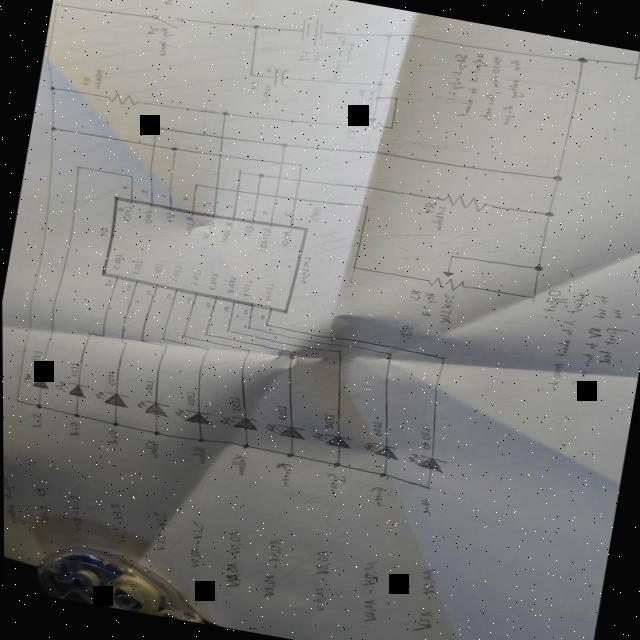capacitor: (260, 64, 290, 89)
crossover: (146, 141, 157, 150), (213, 151, 222, 158), (215, 133, 224, 140), (290, 195, 297, 202), (211, 184, 219, 190), (270, 193, 277, 199), (252, 190, 259, 196), (276, 160, 283, 166), (274, 174, 280, 180), (293, 177, 300, 182), (232, 188, 239, 193)
diode: (404, 451, 446, 474), (260, 420, 307, 440), (170, 405, 213, 426), (308, 430, 352, 450), (359, 439, 400, 460), (216, 411, 258, 431), (51, 378, 89, 398), (132, 398, 168, 418), (94, 388, 129, 408), (25, 371, 51, 389)
ground: (629, 50, 640, 83)
junction: (530, 262, 543, 272), (574, 54, 587, 64), (540, 208, 553, 218), (549, 172, 562, 182), (526, 292, 536, 303), (328, 459, 339, 468), (375, 469, 386, 478), (149, 428, 160, 436), (282, 450, 293, 458), (238, 441, 249, 449), (249, 22, 260, 30), (68, 410, 79, 418), (276, 140, 287, 148), (254, 170, 263, 178), (382, 30, 391, 38), (46, 84, 56, 91), (372, 93, 380, 101), (445, 252, 454, 259), (219, 108, 228, 115), (108, 419, 117, 426), (194, 436, 203, 443), (348, 263, 357, 270), (168, 144, 177, 151), (46, 124, 55, 131), (359, 202, 368, 209), (373, 80, 383, 86), (234, 168, 242, 175), (32, 402, 41, 408), (421, 484, 430, 490), (150, 124, 159, 130), (52, 2, 61, 8), (242, 324, 251, 330), (390, 95, 399, 101), (242, 347, 250, 353), (199, 330, 207, 336), (156, 334, 164, 340), (295, 161, 303, 167), (191, 181, 199, 187), (160, 343, 168, 349), (135, 337, 143, 343), (97, 332, 104, 338), (246, 72, 253, 78), (201, 345, 208, 351), (385, 350, 392, 356), (284, 348, 291, 354), (176, 332, 184, 337), (437, 354, 445, 359), (334, 348, 342, 353), (11, 397, 18, 402), (126, 173, 133, 178), (84, 330, 91, 335), (386, 125, 393, 130), (222, 328, 230, 332), (73, 164, 80, 168), (261, 322, 267, 326), (117, 338, 121, 342), (122, 340, 126, 344)
resistor: (437, 188, 491, 214), (422, 264, 466, 292), (104, 89, 140, 107), (353, 114, 384, 132)
source: (295, 15, 326, 48)
switch: (147, 10, 183, 30)
text: (543, 288, 589, 393), (567, 291, 608, 394), (405, 563, 440, 635), (350, 556, 387, 624), (495, 57, 529, 128), (454, 50, 487, 119), (593, 306, 630, 367), (216, 526, 251, 590), (302, 546, 335, 612), (476, 53, 506, 121), (255, 533, 285, 598), (98, 500, 132, 546), (3, 472, 31, 527), (181, 518, 208, 570), (142, 509, 171, 553), (59, 491, 88, 533), (442, 50, 468, 95), (535, 286, 567, 320), (29, 486, 54, 522), (328, 34, 345, 78), (434, 292, 454, 324), (269, 459, 292, 486), (154, 26, 173, 57), (417, 291, 437, 317), (295, 254, 312, 284), (226, 452, 247, 476), (427, 204, 445, 232), (413, 424, 431, 450), (139, 437, 159, 459), (185, 444, 206, 464), (323, 472, 342, 494), (254, 226, 270, 252), (366, 483, 384, 506), (88, 66, 105, 90), (360, 88, 374, 115), (101, 426, 119, 446), (180, 215, 195, 238), (217, 220, 232, 243), (63, 418, 81, 437), (415, 496, 432, 516), (198, 218, 213, 240), (342, 41, 357, 62), (257, 82, 271, 104), (350, 88, 364, 110), (317, 411, 334, 429), (26, 411, 43, 429), (276, 228, 291, 248), (186, 266, 201, 286), (222, 274, 236, 295), (396, 322, 413, 339), (65, 360, 80, 379), (237, 278, 251, 298), (204, 270, 218, 290), (168, 263, 182, 283), (367, 419, 383, 436), (271, 404, 287, 421), (306, 204, 321, 222), (224, 394, 240, 410), (102, 368, 116, 386), (129, 258, 143, 276), (27, 349, 40, 368), (181, 389, 195, 406), (117, 204, 131, 221), (260, 282, 273, 300), (109, 252, 122, 270), (149, 262, 162, 279), (406, 287, 420, 302), (420, 201, 436, 214), (140, 378, 152, 395), (140, 207, 152, 224), (342, 127, 356, 141), (239, 224, 253, 238), (161, 210, 174, 223), (95, 225, 108, 238), (246, 77, 258, 91), (309, 49, 321, 63), (144, 23, 158, 35), (297, 49, 309, 62), (78, 75, 92, 86), (101, 276, 112, 287), (159, 0, 174, 7), (239, 306, 248, 316), (257, 208, 268, 216), (182, 295, 191, 304), (221, 202, 232, 209), (255, 312, 264, 320), (122, 284, 131, 292), (219, 304, 228, 312), (201, 198, 210, 206), (143, 288, 151, 296), (163, 291, 171, 299), (202, 300, 210, 308), (138, 188, 147, 195), (179, 194, 188, 201), (280, 210, 289, 217), (119, 183, 127, 190), (157, 192, 166, 198), (242, 206, 251, 212)
